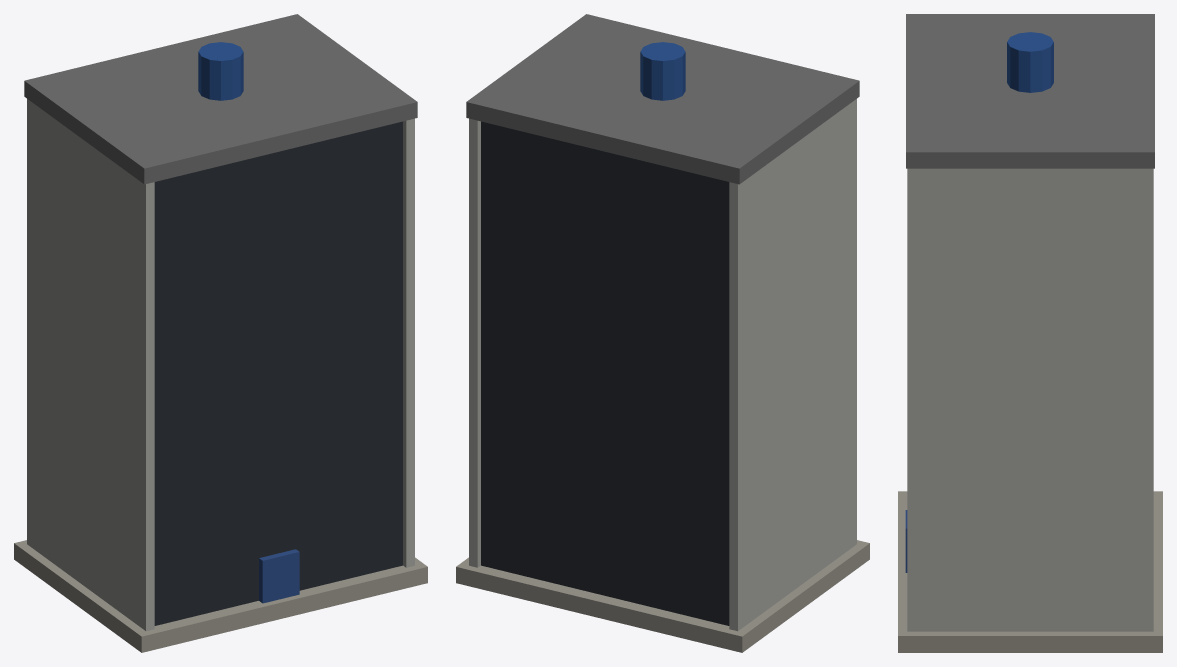
The model's file is bld_residential_a09_lod1.glb.
The picture shows the model from 3 angles, left to right: view 1: azimuth 30°, elevation 25°; view 2: azimuth 150°, elevation 25°; view 3: azimuth 270°, elevation 25°; orthographic projection. The views are drawn at different scales.
Visible parts, largest first — view 1: body; view 2: body; view 3: body.
Boxes of the visible parts, x1,y1,x2,y2 form: body: [14, 14, 427, 652]; body: [456, 14, 869, 652]; body: [898, 14, 1162, 652].
Bounding box in the file's own units: 6.6 × 11.45 × 5.1.
